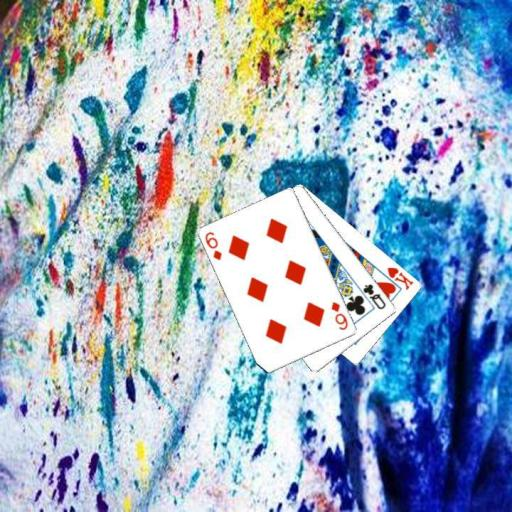6D: (328, 299, 350, 332), (202, 228, 223, 262)
KH: (384, 264, 415, 291)
QC: (360, 281, 387, 311)
